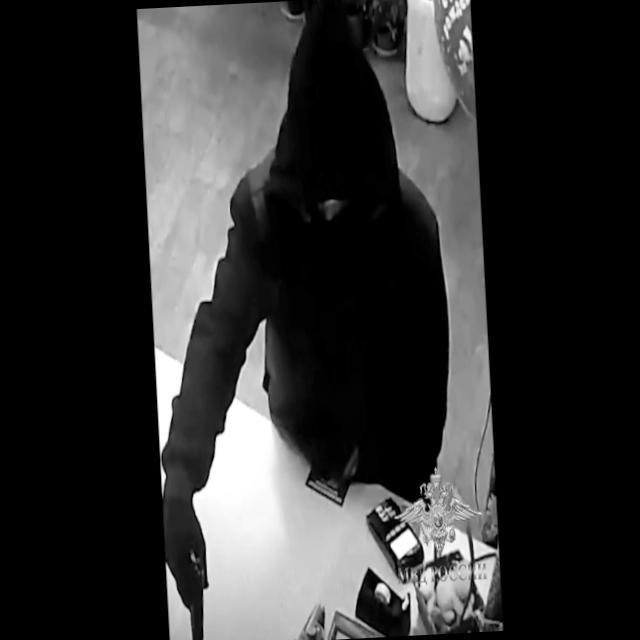gun: (158, 529, 213, 640)
person with a gun: (134, 13, 465, 640)
